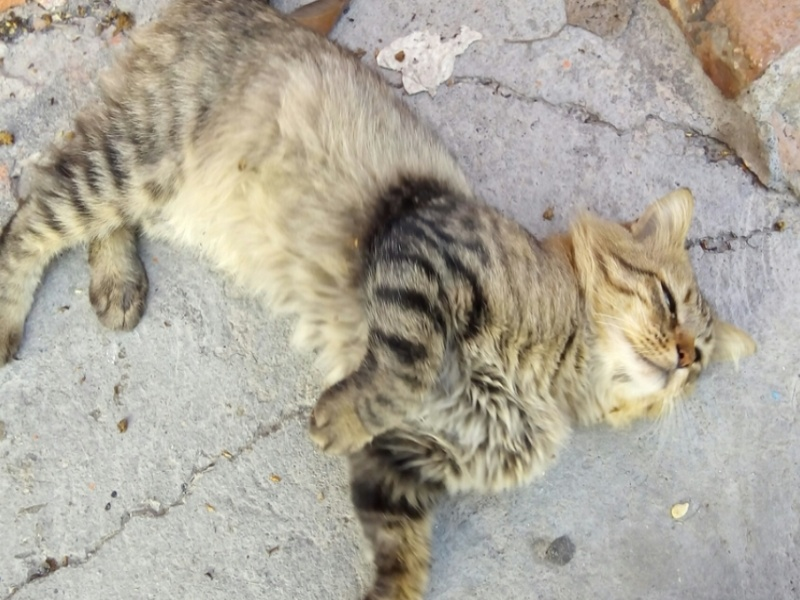cat: (7, 9, 760, 591)
